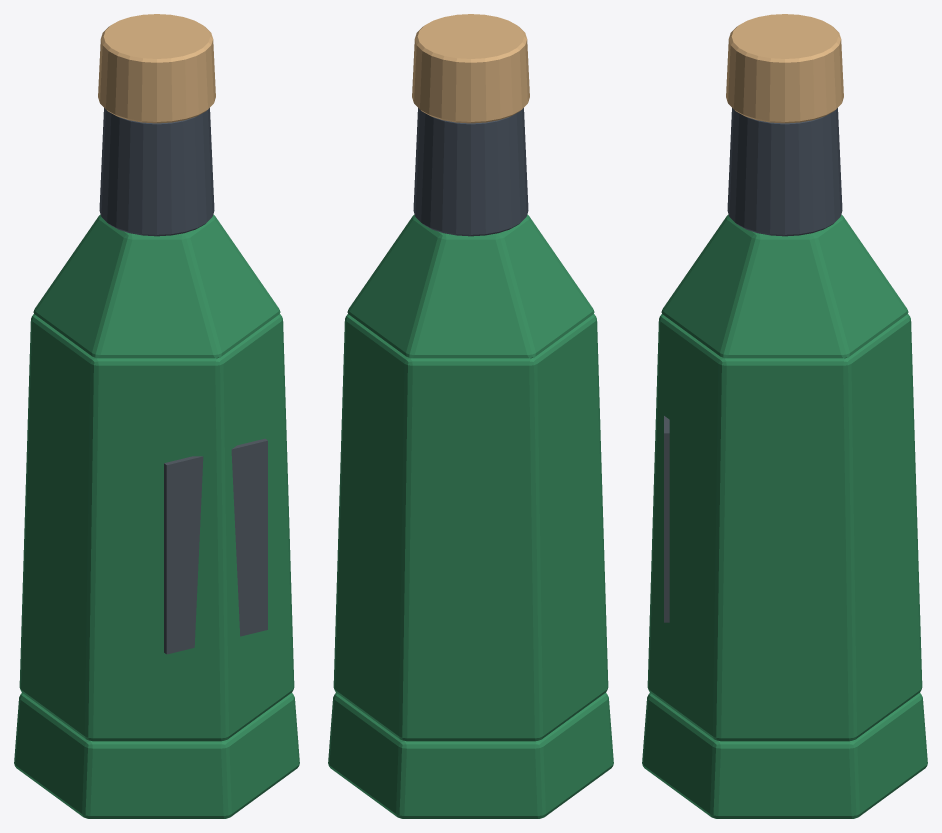
The model's file is cantina_11_bottle.glb.
3 views of the same model, side by side, from view 1: azimuth 30°, elevation 25°; view 2: azimuth 150°, elevation 25°; view 3: azimuth 270°, elevation 25° (orthographic).
Visible parts, largest first — view 1: Bottle_Main_Body, Bottle_Blank_Label, Bottle_Neck_Collar, Bottle_Bronze_Cap; view 2: Bottle_Main_Body, Bottle_Neck_Collar, Bottle_Bronze_Cap; view 3: Bottle_Main_Body, Bottle_Neck_Collar, Bottle_Bronze_Cap, Bottle_Blank_Label.
Boxes of the visible parts, <box> form: Bottle_Main_Body: <box>14,214,299,818</box>; Bottle_Blank_Label: <box>164,438,267,654</box>; Bottle_Neck_Collar: <box>99,108,214,236</box>; Bottle_Bronze_Cap: <box>98,14,215,123</box>; Bottle_Main_Body: <box>328,214,613,818</box>; Bottle_Neck_Collar: <box>413,108,528,236</box>; Bottle_Bronze_Cap: <box>412,14,529,123</box>; Bottle_Main_Body: <box>642,214,927,818</box>; Bottle_Neck_Collar: <box>727,108,842,236</box>; Bottle_Bronze_Cap: <box>726,14,843,123</box>; Bottle_Blank_Label: <box>664,416,669,622</box>.
Size of the model in its own units: 0.0898 by 0.29 by 0.1027.
